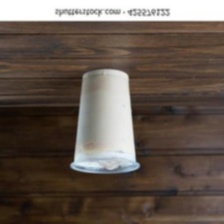glass: (68, 66, 142, 176)
